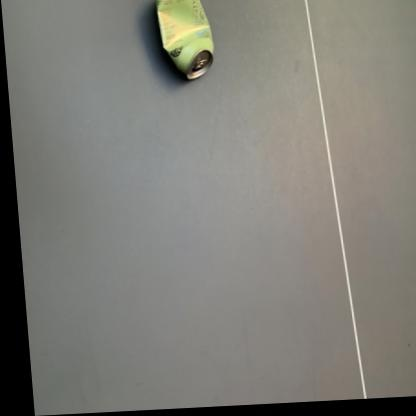trash: (156, 0, 213, 78)
